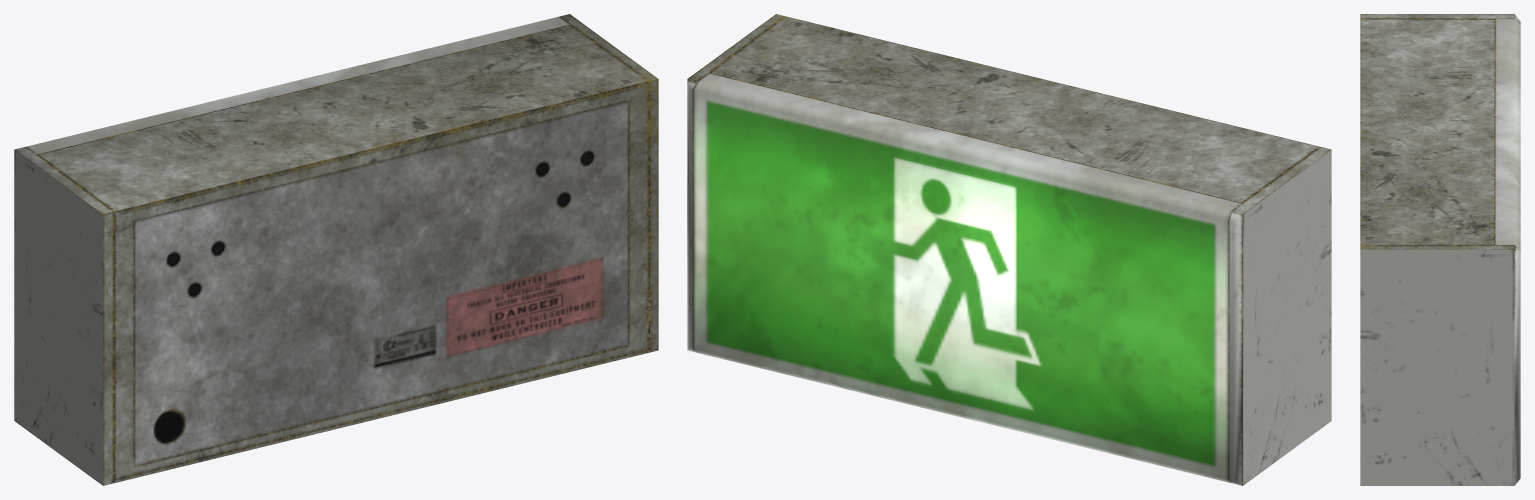
Rendered from way_out.glb.
The picture shows the model from 3 angles, left to right: view 1: azimuth 30°, elevation 25°; view 2: azimuth 150°, elevation 25°; view 3: azimuth 270°, elevation 25°; orthographic projection. The views are drawn at different scales.
Parts seen in each view (by area): view 1: Box045; view 2: Box045; view 3: Box045.
Boxes of the visible parts, left/top/right/bottom form: Box045: left=14, top=14, right=658, bottom=485; Box045: left=687, top=14, right=1331, bottom=485; Box045: left=1360, top=14, right=1520, bottom=485.
Size of the model in its own units: 55.65 by 27.3 by 16.
1 material, 1 textured.
